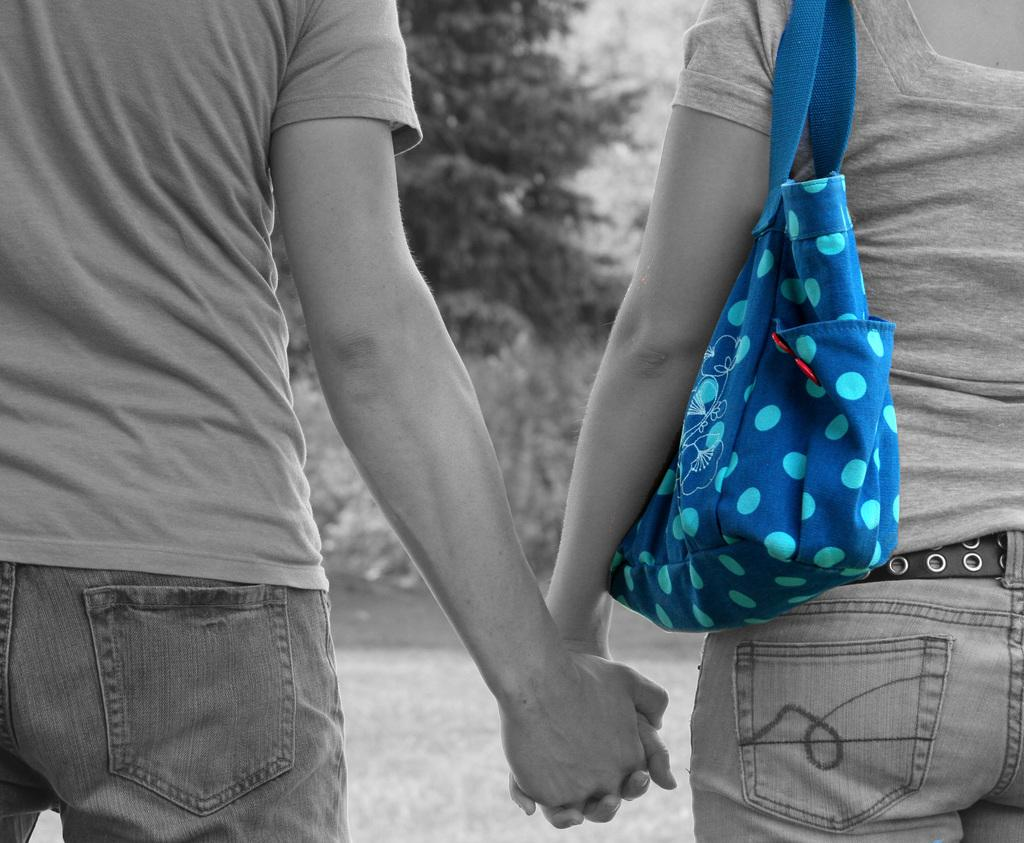Luggage-and-bags: (598, 81, 928, 655)
